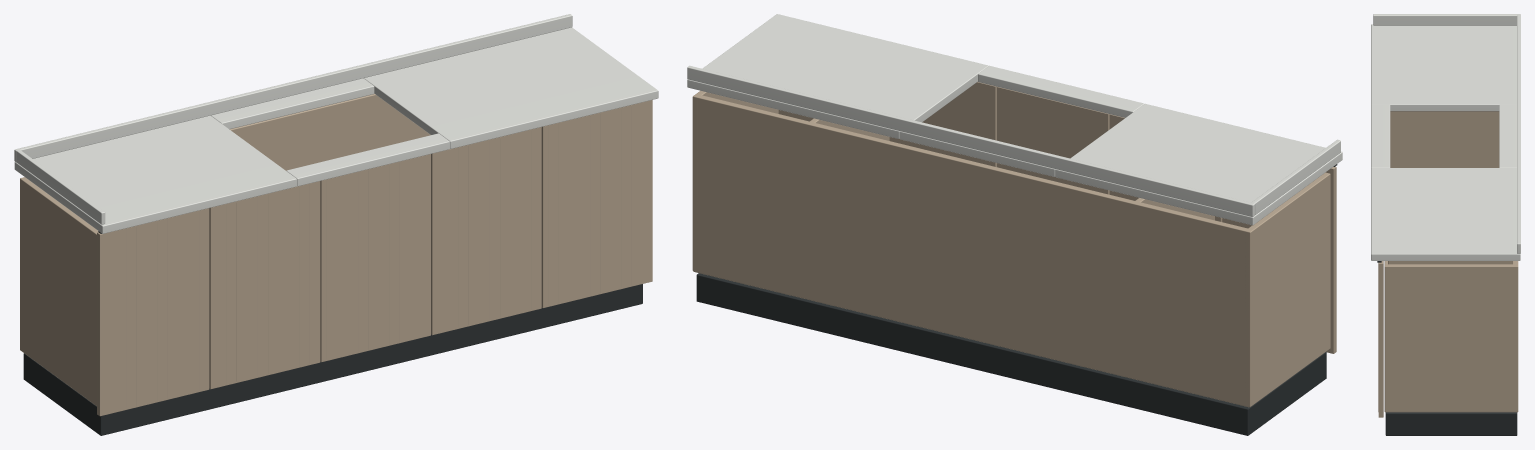
3 renders of one model, left to right at view 1: azimuth 30°, elevation 25°; view 2: azimuth 150°, elevation 25°; view 3: azimuth 270°, elevation 25°, orthographic. The views are drawn at different scales.
Parts seen in each view (by area): view 1: Cabinet bottom, White worktop left, Cabinet dark recessed plinth, Base cabinet door 0 subtle grain; view 2: Cabinet bottom, White worktop left, Cabinet dark recessed plinth; view 3: White worktop left, Cabinet bottom, Cabinet dark recessed plinth.
Part boxes in pixels (x1,y1,x2,y2): Cabinet bottom: (20, 94, 652, 416); White worktop left: (14, 14, 658, 233); Cabinet dark recessed plinth: (23, 231, 642, 435); Base cabinet door 0 subtle grain: (126, 106, 631, 408); Cabinet bottom: (692, 82, 1336, 407); White worktop left: (687, 14, 1342, 225); Cabinet dark recessed plinth: (696, 164, 1337, 435); White worktop left: (1371, 14, 1520, 260); Cabinet bottom: (1378, 111, 1518, 417); Cabinet dark recessed plinth: (1377, 261, 1517, 435).
Size of the model in its own units: 2.4 by 0.95 by 0.661.
